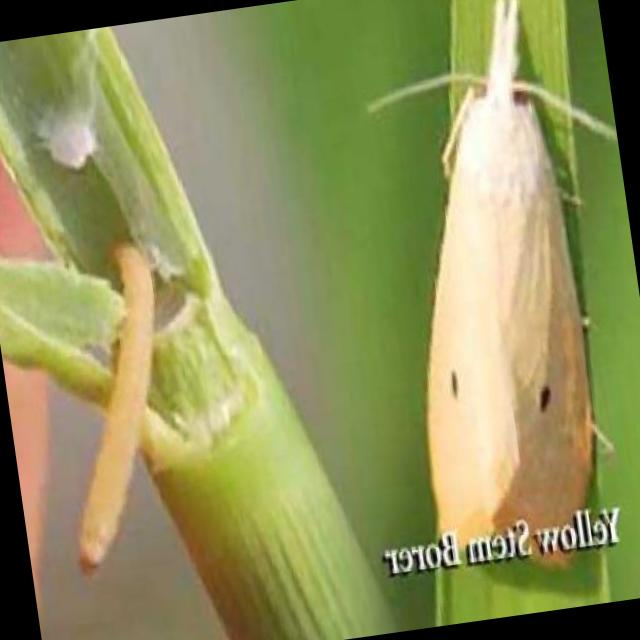stem-borer: (361, 0, 618, 526)
